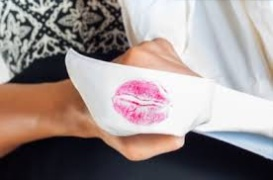lipstick: (112, 81, 172, 122)
